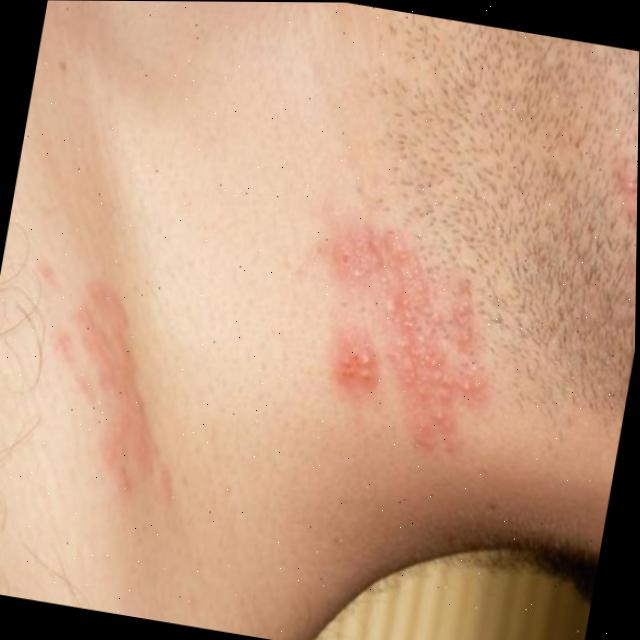Shingles: (292, 212, 492, 458), (36, 287, 197, 481)
